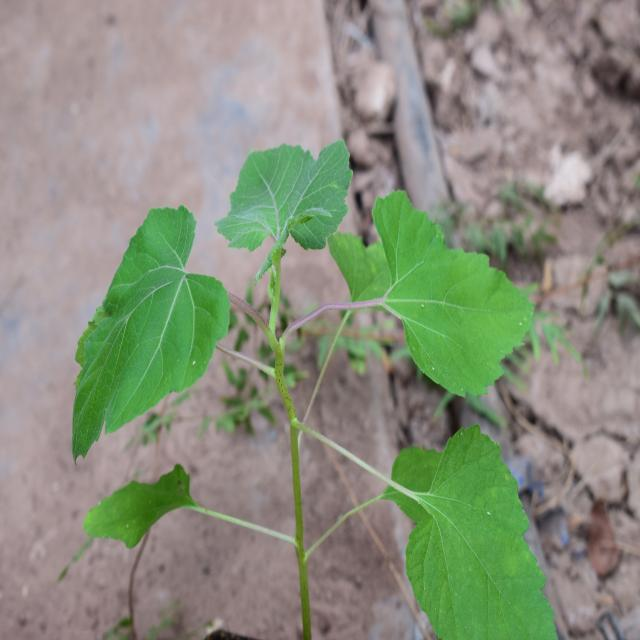cocklebur: (62, 128, 558, 615)
